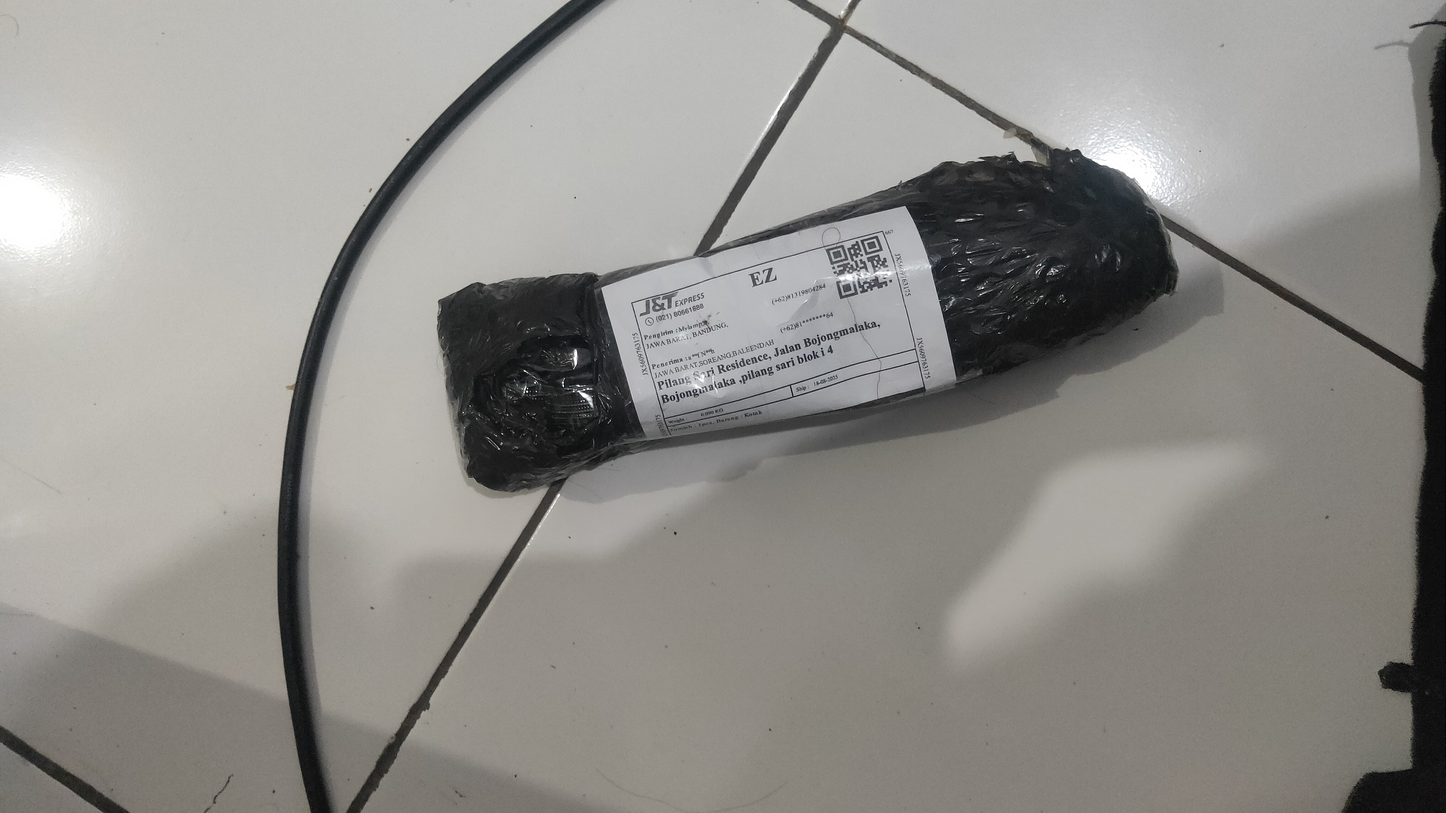damaged package: (465, 321, 604, 466)
undamaged: (434, 151, 1181, 497)
